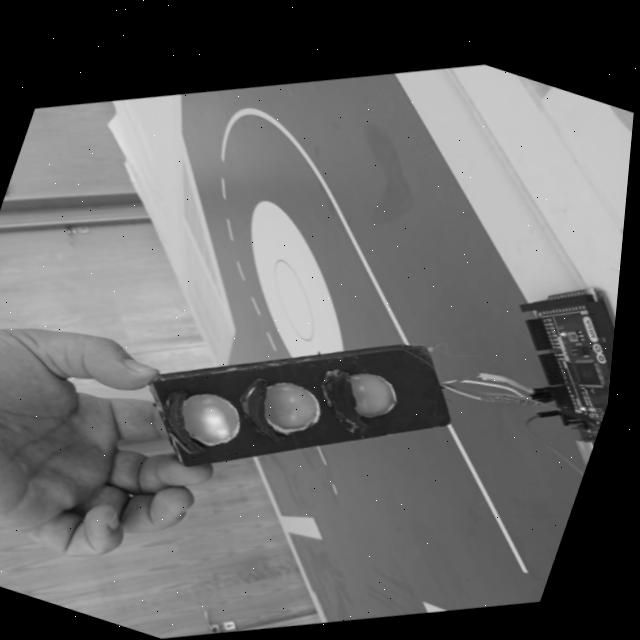red: (180, 393, 239, 445)
trafic lights: (150, 344, 450, 466)
